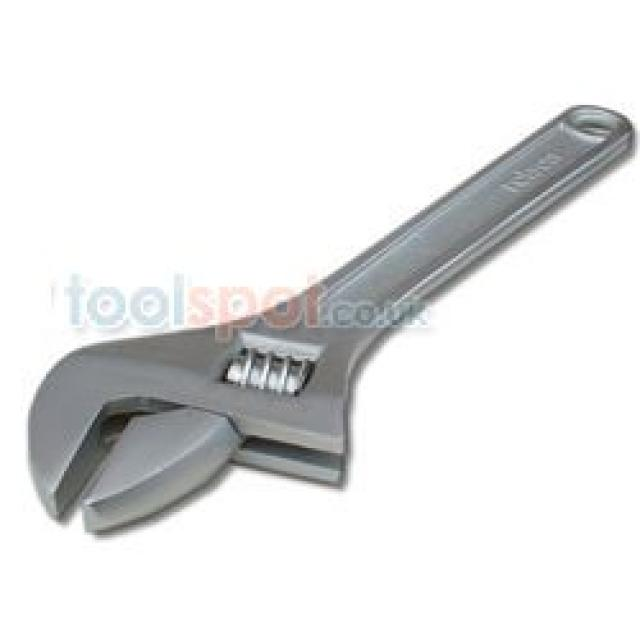wrench: (7, 84, 640, 554)
